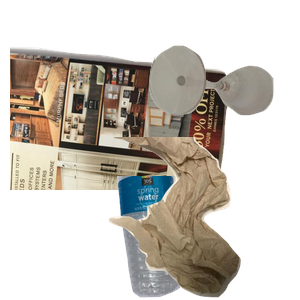glass: (147, 43, 300, 151)
paper: (10, 44, 232, 224)
plastic: (115, 176, 288, 300)
trash: (103, 137, 300, 300)
